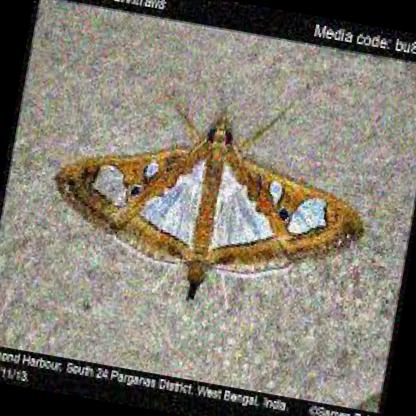Leaf Webber: (55, 109, 369, 294)
